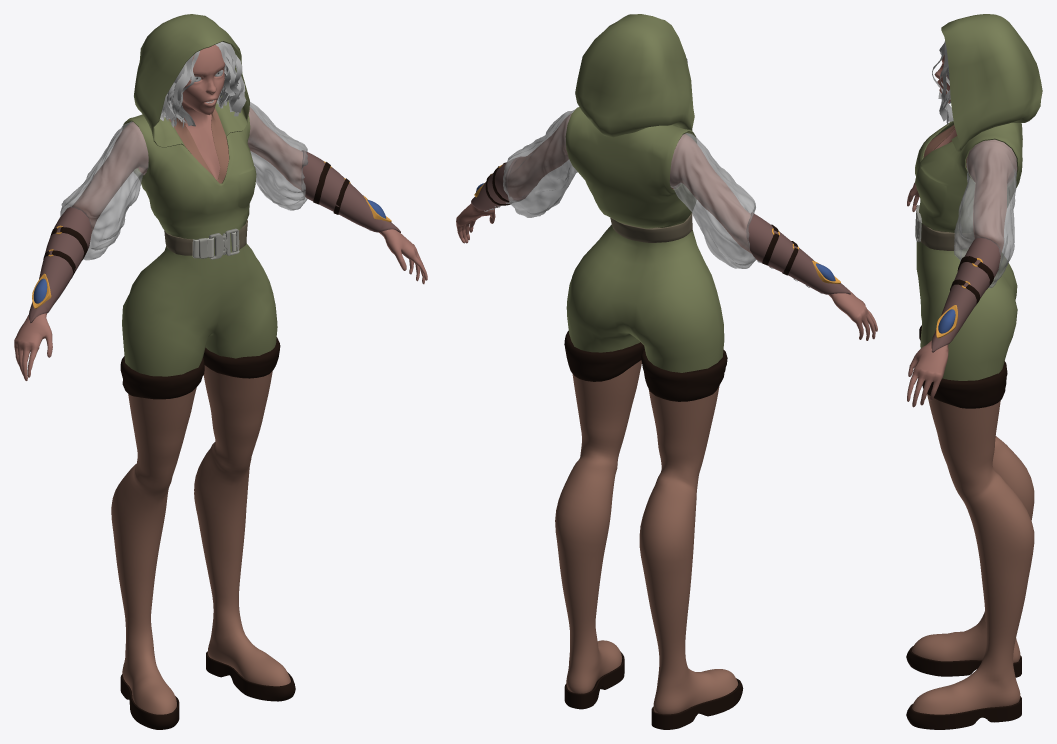
File: siera_UV_01.fbx
The picture shows the model from 3 angles, left to right: view 1: azimuth 30°, elevation 25°; view 2: azimuth 150°, elevation 25°; view 3: azimuth 270°, elevation 25°; orthographic projection. The views are drawn at different scales.
Visible parts, largest first — view 1: body_cloth_low, boots_low, body_low, sleeve_R_low, sleeve_L_low, upper_leg_cloth_low, glove_R_low, glove_L_low, hair, sole_low, belt_low, neck_part_low; view 2: body_cloth_low, boots_low, body_low, sleeve_R_low, sleeve_L_low, upper_leg_cloth_low, glove_R_low, sole_low, belt_low, glove_L_low; view 3: body_cloth_low, boots_low, body_low, sleeve_L_low, sole_low, glove_L_low, upper_leg_cloth_low, belt_low, hair, neck_part_low, gemme_L_low, arm_L_ring_top_low.
Boxes of the visible parts, <box> form: body_cloth_low: <box>122,14,277,376</box>; boots_low: <box>111,365,290,714</box>; body_low: <box>14,45,427,380</box>; sleeve_R_low: <box>60,121,148,260</box>; sleeve_L_low: <box>247,102,308,210</box>; upper_leg_cloth_low: <box>120,337,280,399</box>; glove_R_low: <box>29,206,92,323</box>; glove_L_low: <box>301,150,400,232</box>; hair: <box>160,41,246,128</box>; sole_low: <box>120,651,295,729</box>; belt_low: <box>164,220,247,259</box>; neck_part_low: <box>169,103,228,183</box>; body_cloth_low: <box>565,14,724,372</box>; boots_low: <box>555,360,738,714</box>; body_low: <box>456,113,877,340</box>; sleeve_R_low: <box>669,133,756,268</box>; sleeve_L_low: <box>503,109,577,217</box>; upper_leg_cloth_low: <box>564,331,727,401</box>; glove_R_low: <box>746,212,850,294</box>; sole_low: <box>564,651,743,729</box>; belt_low: <box>610,213,692,242</box>; glove_L_low: <box>471,156,531,210</box>; body_cloth_low: <box>915,14,1042,380</box>; boots_low: <box>912,394,1034,714</box>; body_low: <box>907,55,1017,407</box>; sleeve_L_low: <box>954,139,1016,288</box>; sole_low: <box>906,646,1021,729</box>; glove_L_low: <box>931,236,1001,352</box>; upper_leg_cloth_low: <box>919,325,1007,408</box>; belt_low: <box>915,205,973,250</box>; hair: <box>932,41,953,125</box>; neck_part_low: <box>923,125,957,157</box>; gemme_L_low: <box>938,309,955,333</box>; arm_L_ring_top_low: <box>957,256,993,288</box>.
Size of the model in its own units: 108 by 172 by 31.53.
